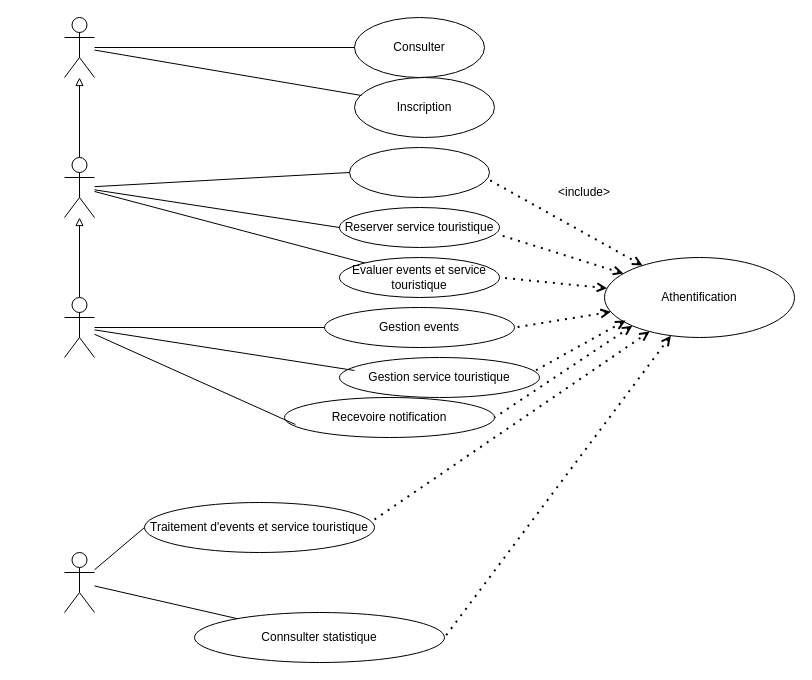
This 812x680 diagram has some shape labels left out. Each missing label, with the centre of its shape:
Admin: the point at 79,582
Client: the point at 79,187
Organizateur/Propritére: the point at 79,327
Recherce events et service touristique: the point at 419,172
Visiteur: the point at 79,47
